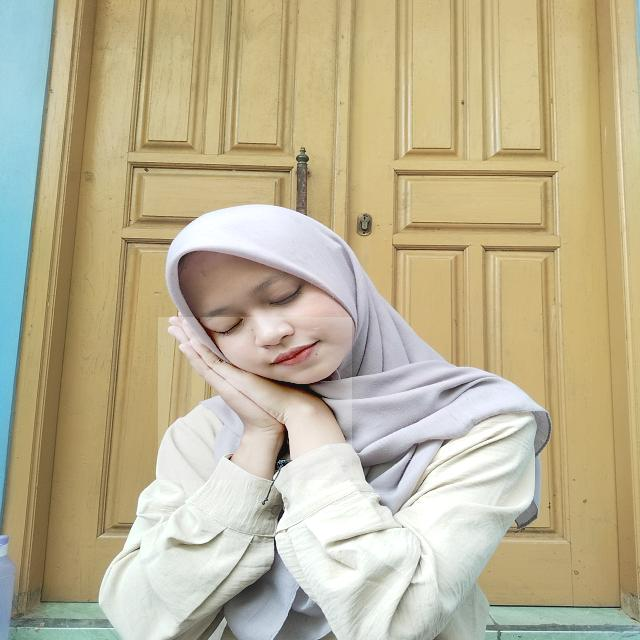tidur: (158, 317, 352, 480)
